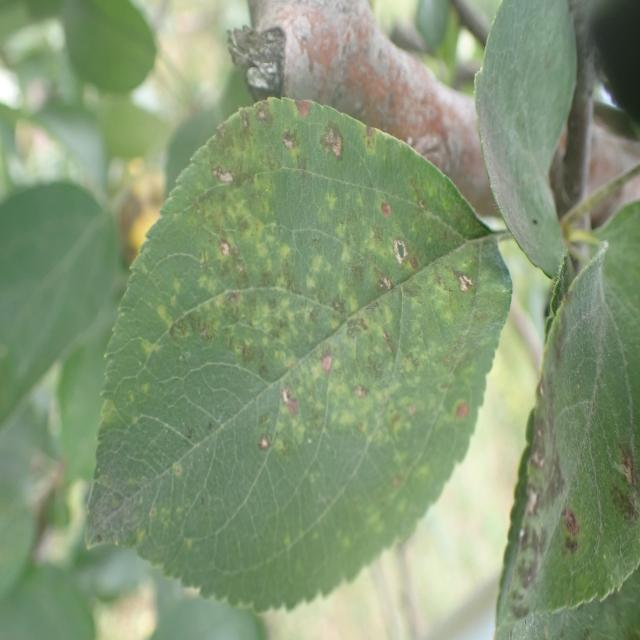frog-eye-leaf-spot: (84, 95, 514, 614)
